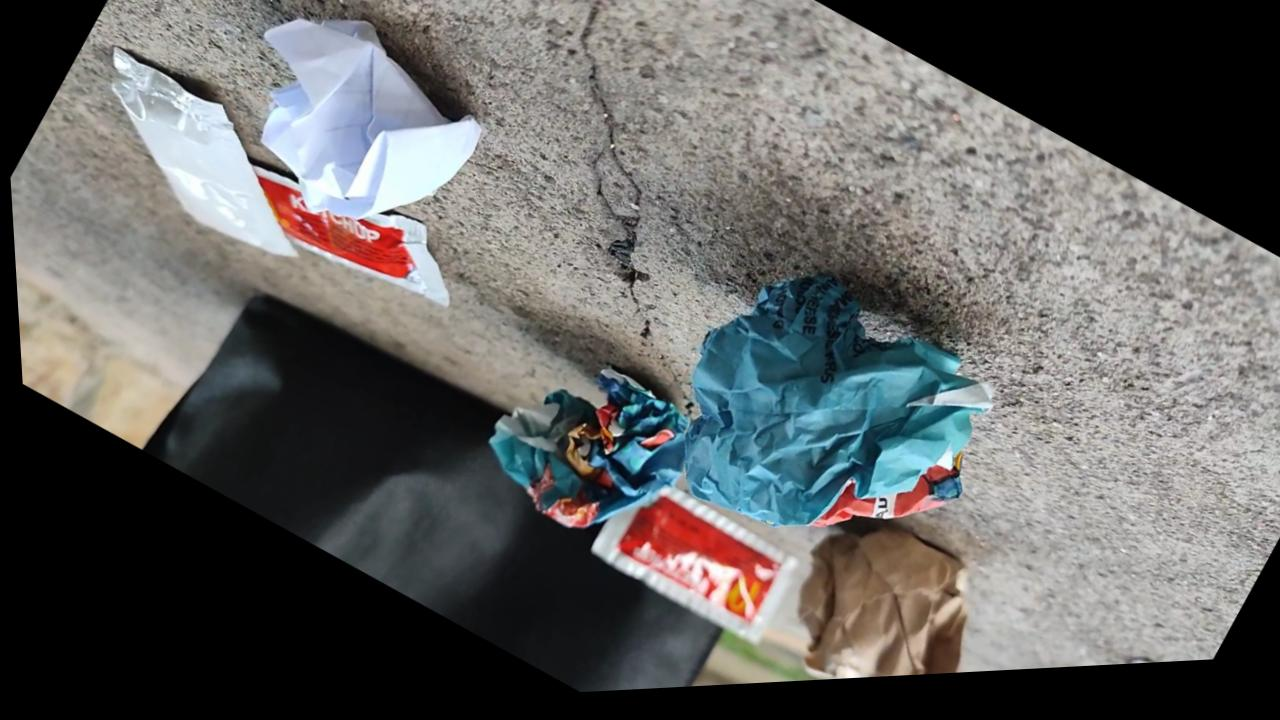paper: (597, 276, 990, 620), (231, 20, 480, 302), (735, 521, 965, 676), (489, 368, 688, 527)
